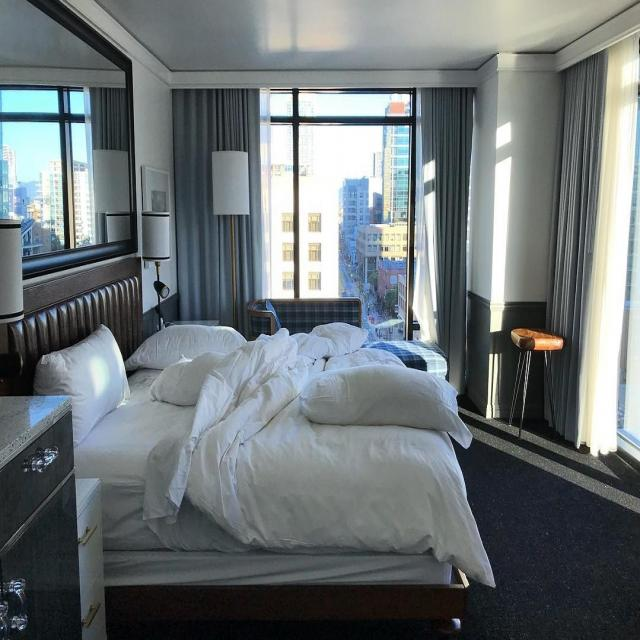bed: (36, 298, 492, 600)
